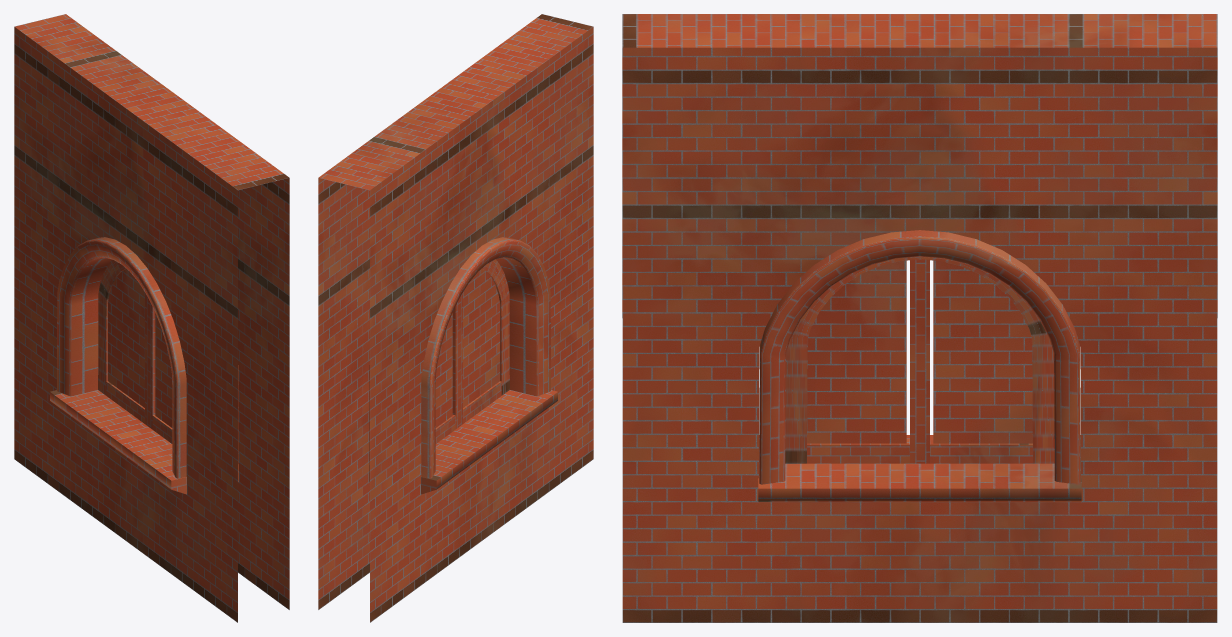
The model's file is Medieval_elements_2.fbx.
The picture shows the model from 3 angles, left to right: view 1: azimuth 30°, elevation 25°; view 2: azimuth 150°, elevation 25°; view 3: azimuth 270°, elevation 25°; orthographic projection. The views are drawn at different scales.
Parts seen in each view (by area): view 1: Window; view 2: Window; view 3: Window.
Part boxes in pixels (bbox=[...]): Window: bbox=[14, 14, 289, 622]; Window: bbox=[318, 14, 593, 622]; Window: bbox=[622, 14, 1217, 622].
Size of the model in its own units: 64 by 320 by 300.
